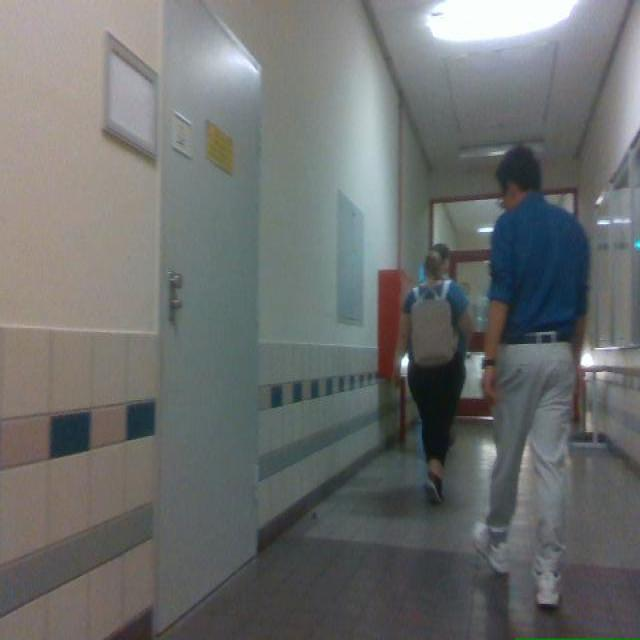humans: (474, 147, 589, 608), (395, 245, 472, 501)
objects: (410, 281, 456, 367)
